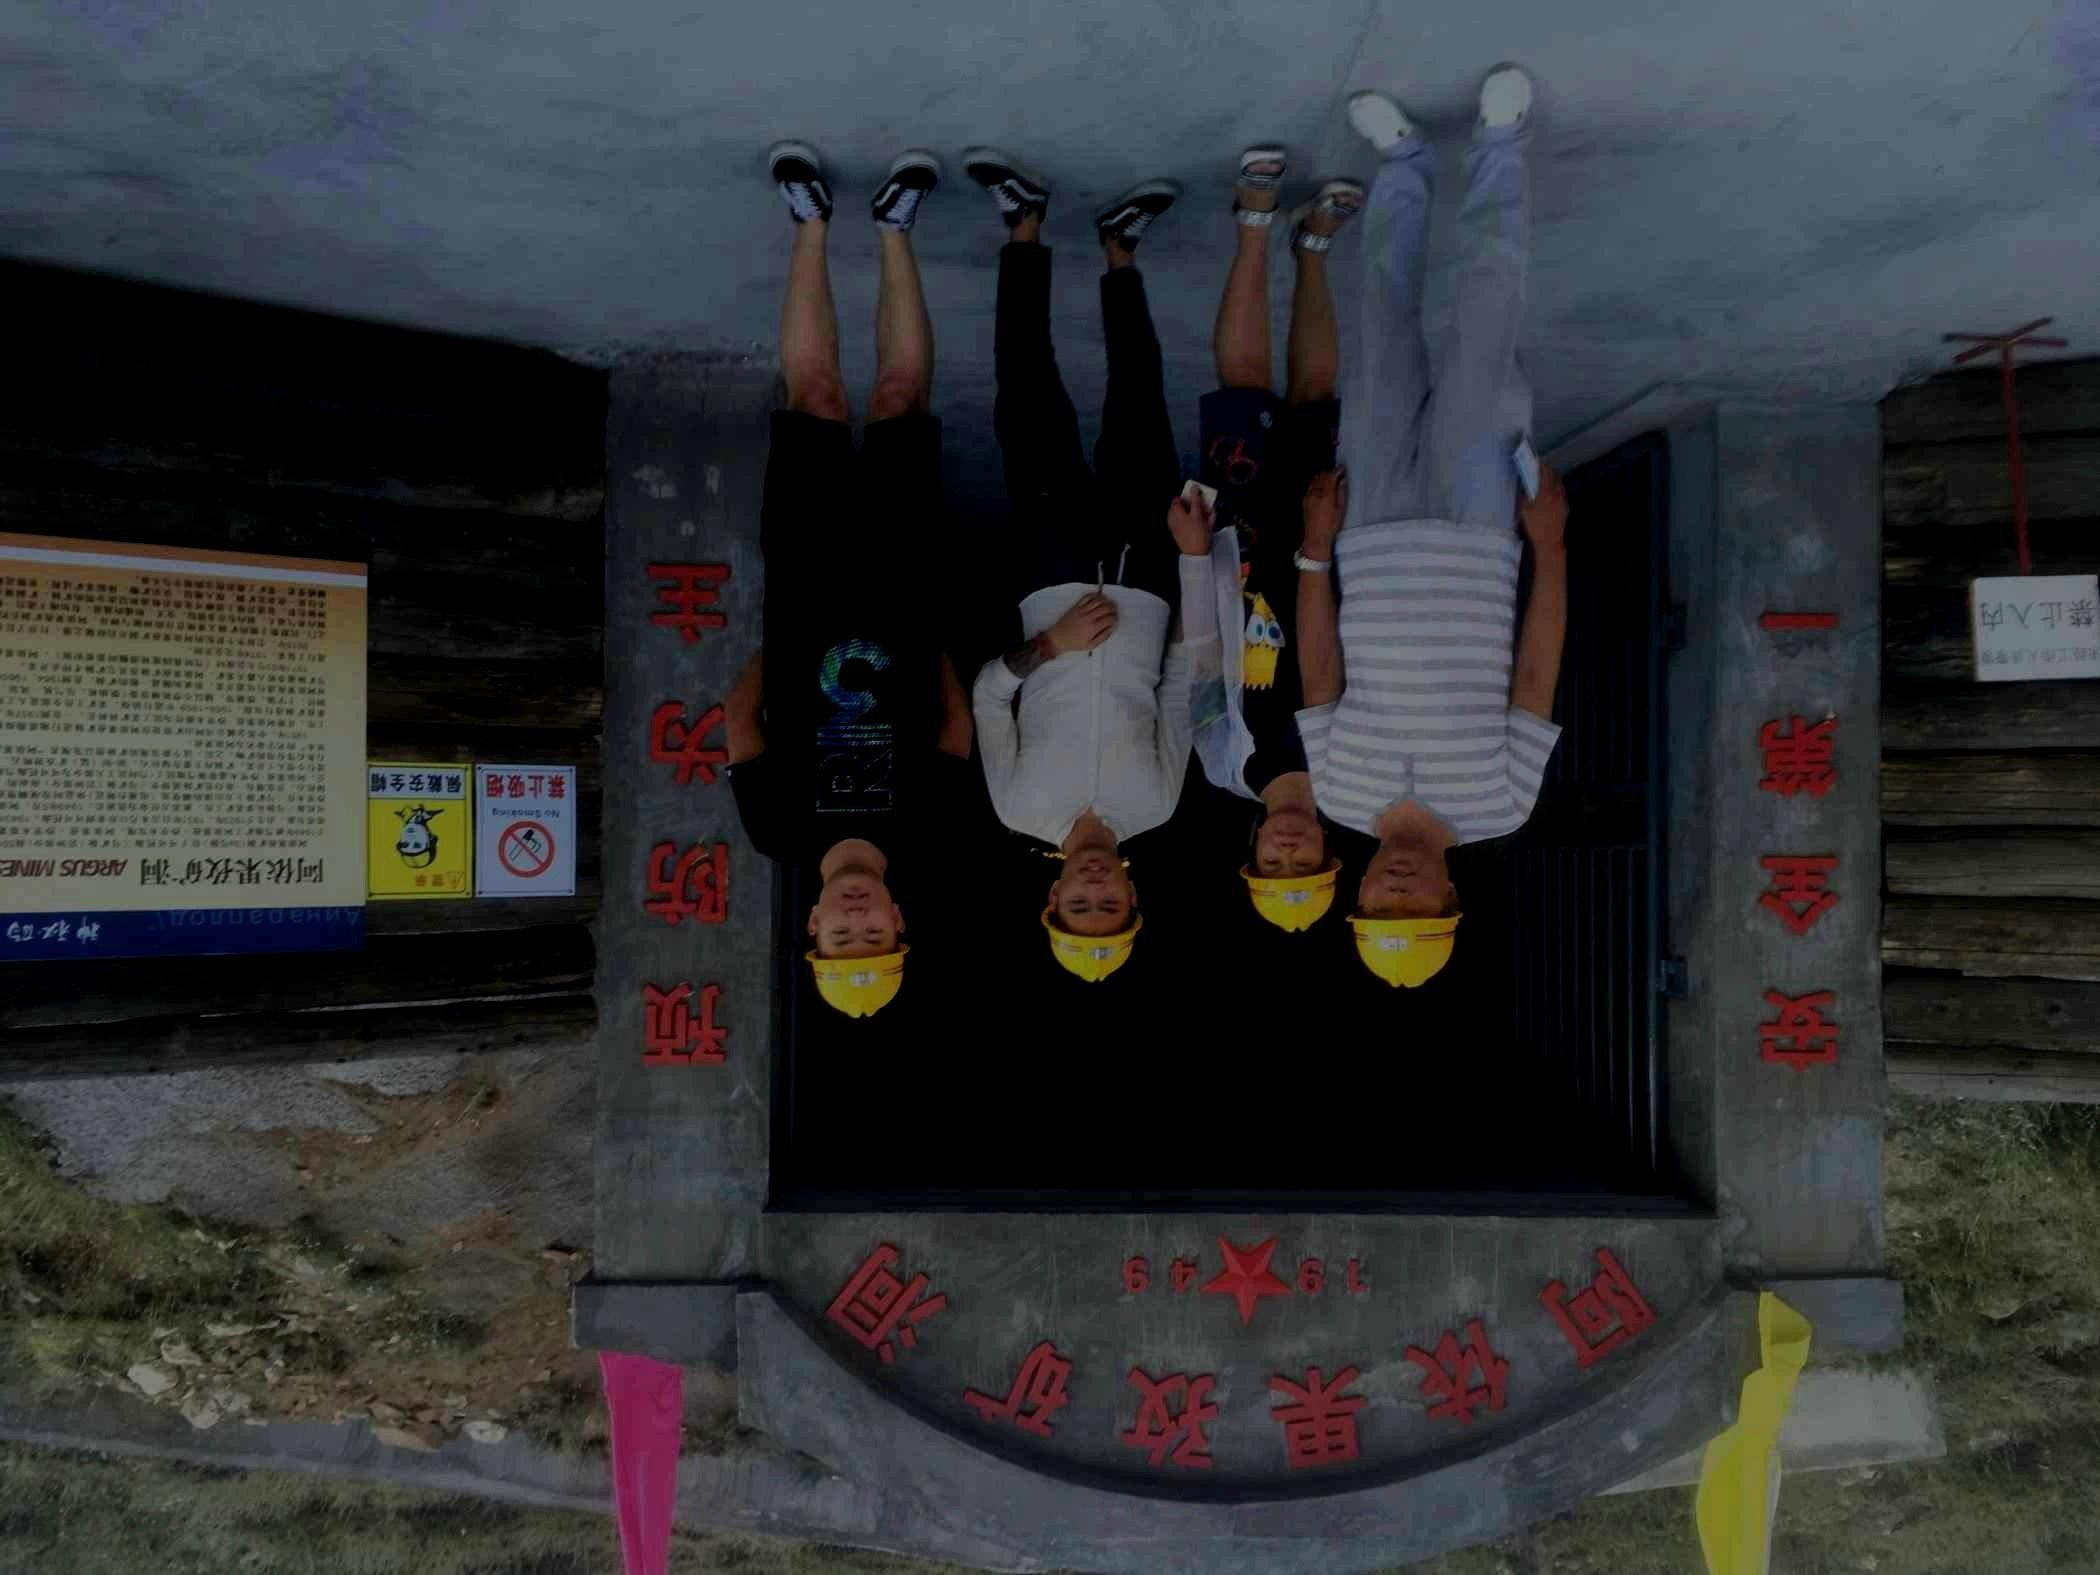helmet: (1344, 840, 1463, 989), (804, 872, 911, 1019), (1038, 849, 1144, 983), (1239, 811, 1344, 935)
